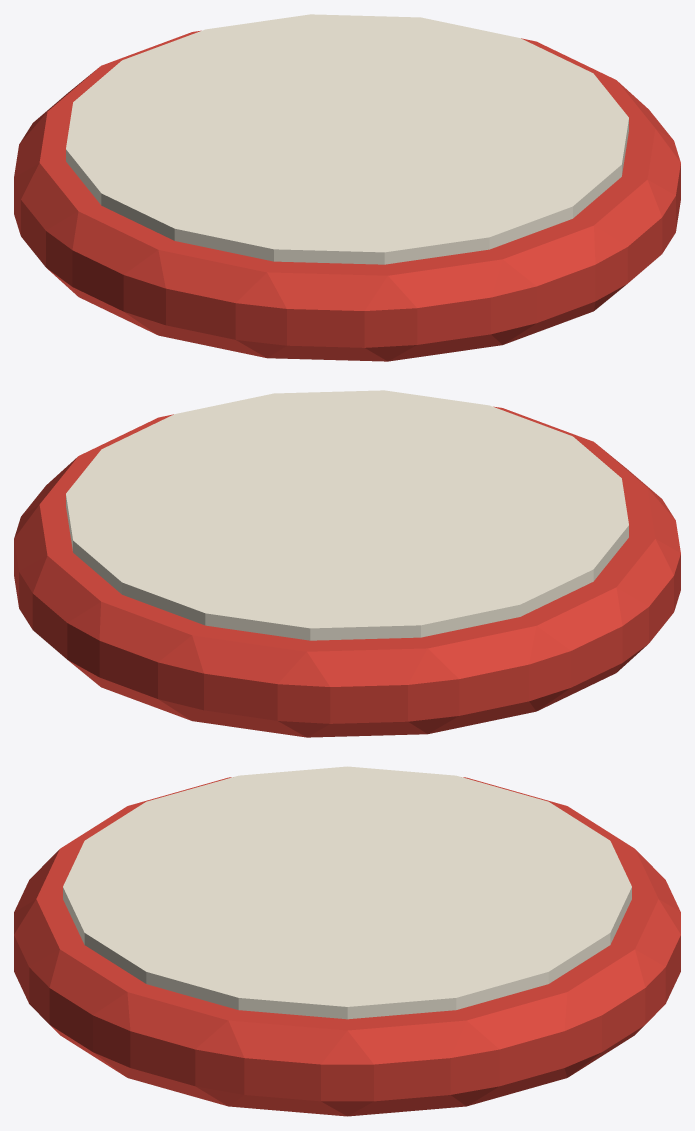
Rendered from big_blind_button.glb.
3 renders of one model, top to bottom at view 1: azimuth 30°, elevation 25°; view 2: azimuth 150°, elevation 25°; view 3: azimuth 270°, elevation 25°, orthographic.
Parts seen in each view (by area): view 1: big_blind_button; view 2: big_blind_button; view 3: big_blind_button.
Boxes of the visible parts, box(x1,y1,x2,y2) form: big_blind_button: box(14, 14, 680, 361); big_blind_button: box(14, 390, 680, 737); big_blind_button: box(14, 766, 680, 1116).
Bounding box in the file's own units: 0.0984 × 0.016 × 0.0984.
